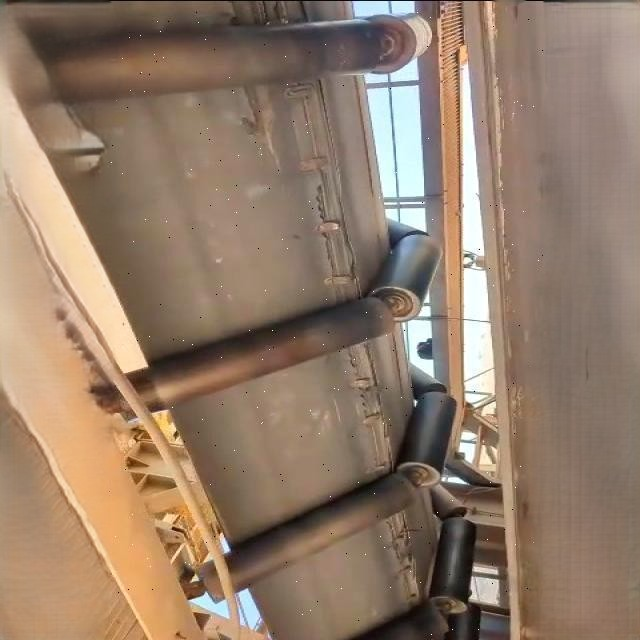Tear: (272, 71, 370, 304), (336, 336, 399, 479), (378, 504, 428, 612), (221, 0, 330, 28)
Wear: (232, 82, 288, 168)
